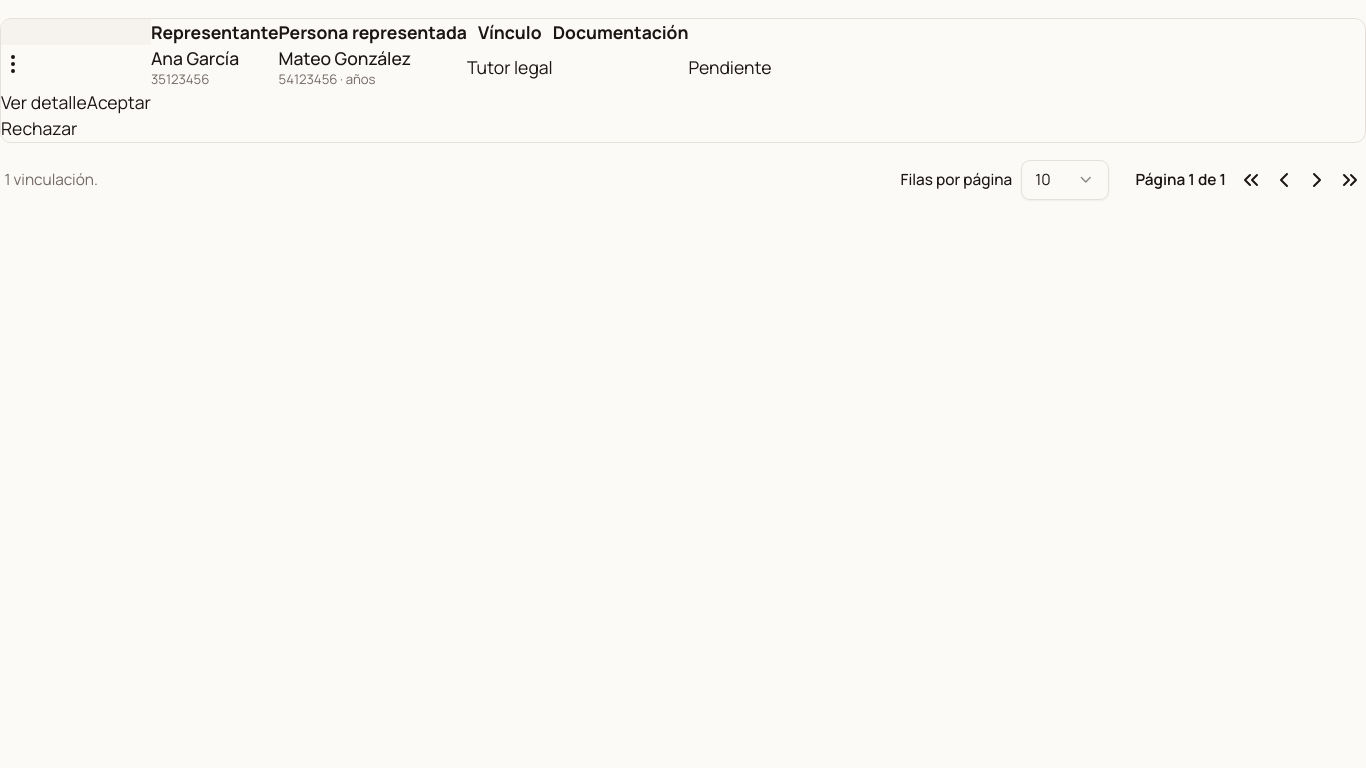
Scenario: GuardianLinkRequests › shows the backend error inside the confirmation dialog
Click the button named "Abrir acciones de Mateo González" at [13, 64], box [1,52,25,76]
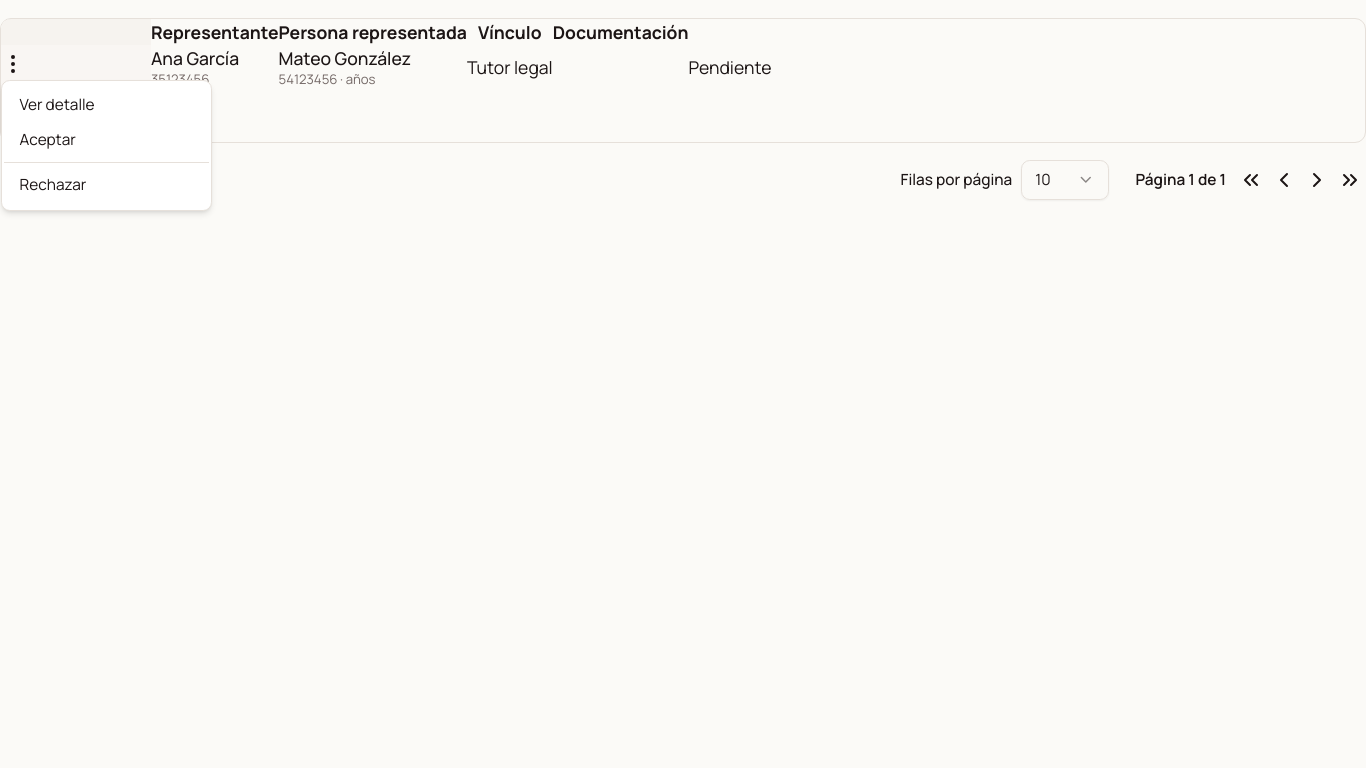
Click the menu item "Aceptar" at [48, 140], box [20,129,76,150]
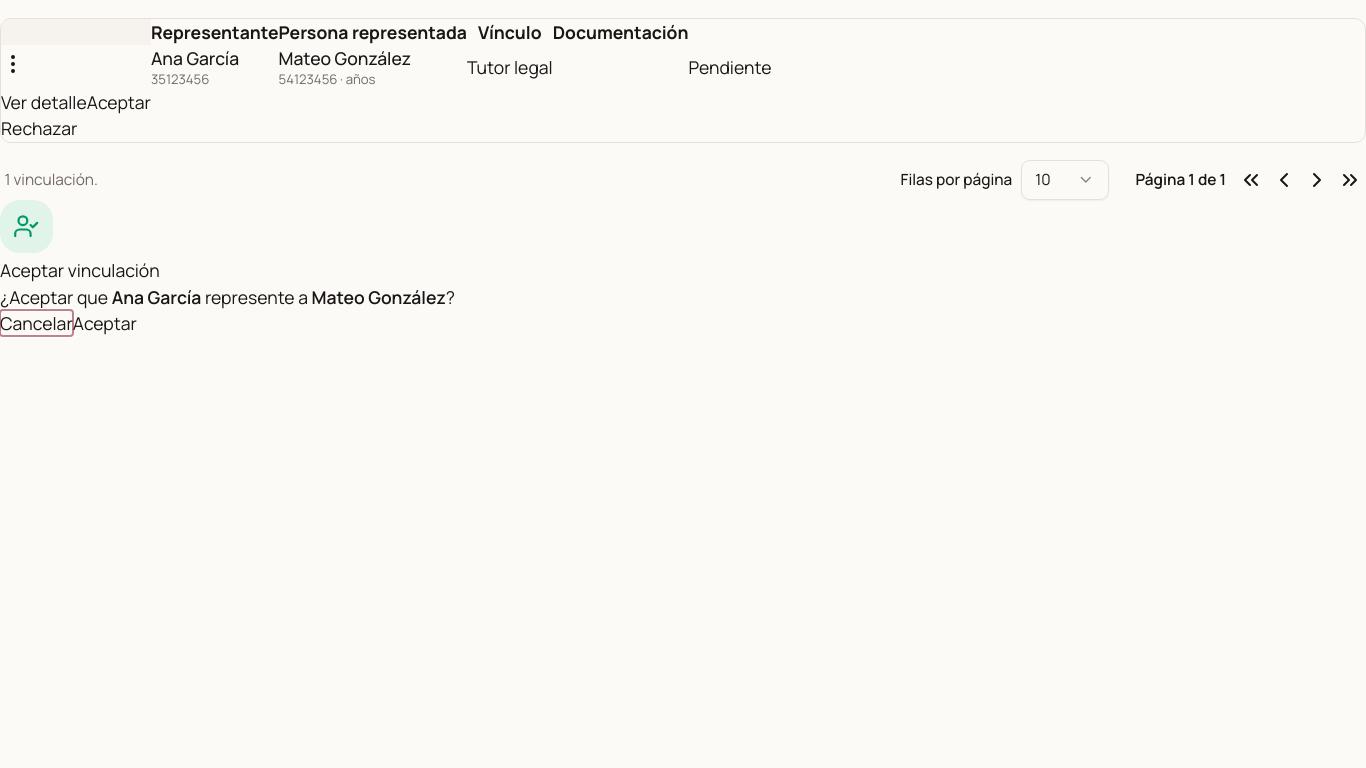
Click the button "Aceptar" at [105, 323], box [73,310,137,336]
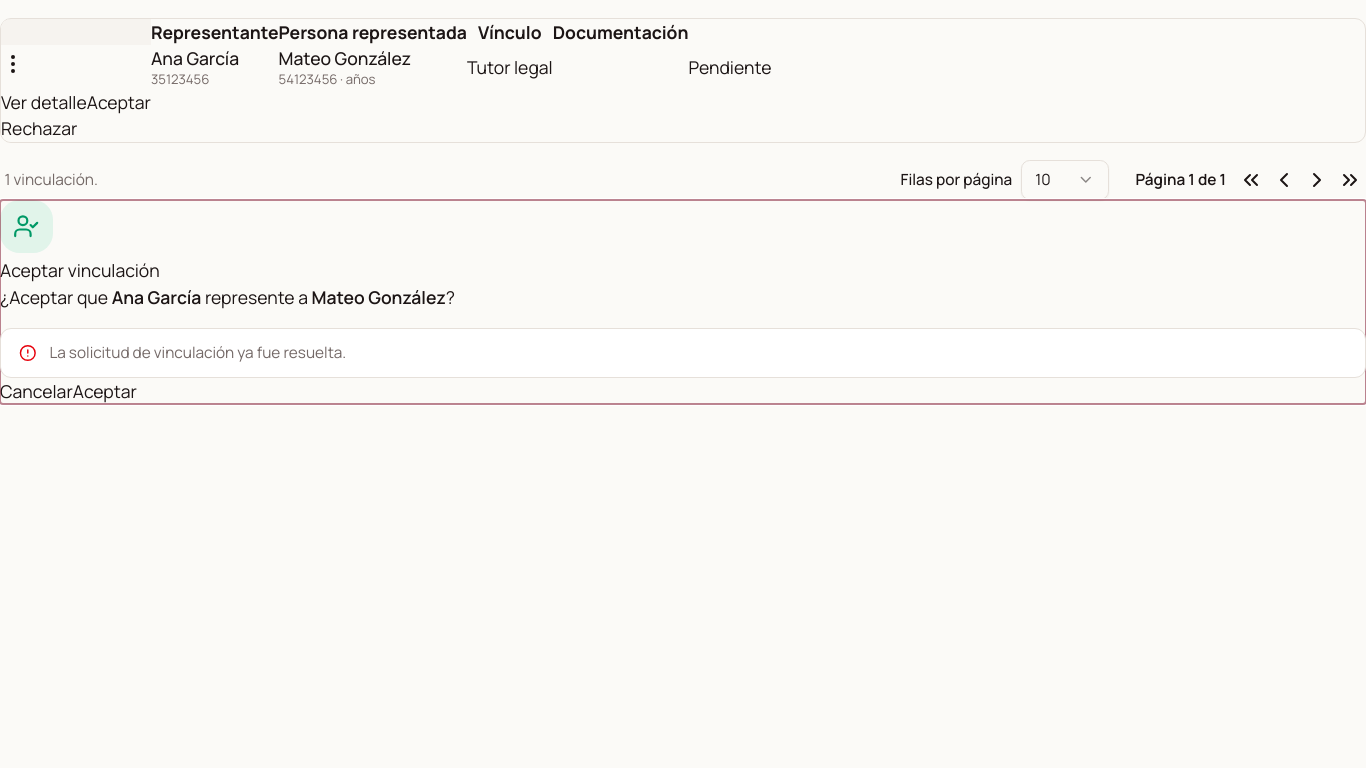
Result: the text "La solicitud de vinculación ya fue resuelta." is shown at [49,342,346,363]
